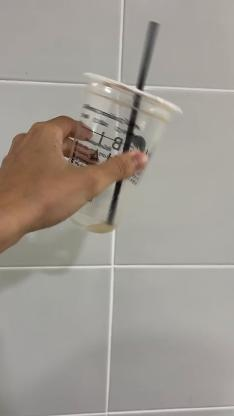Plastic Cup: (66, 70, 186, 234)
